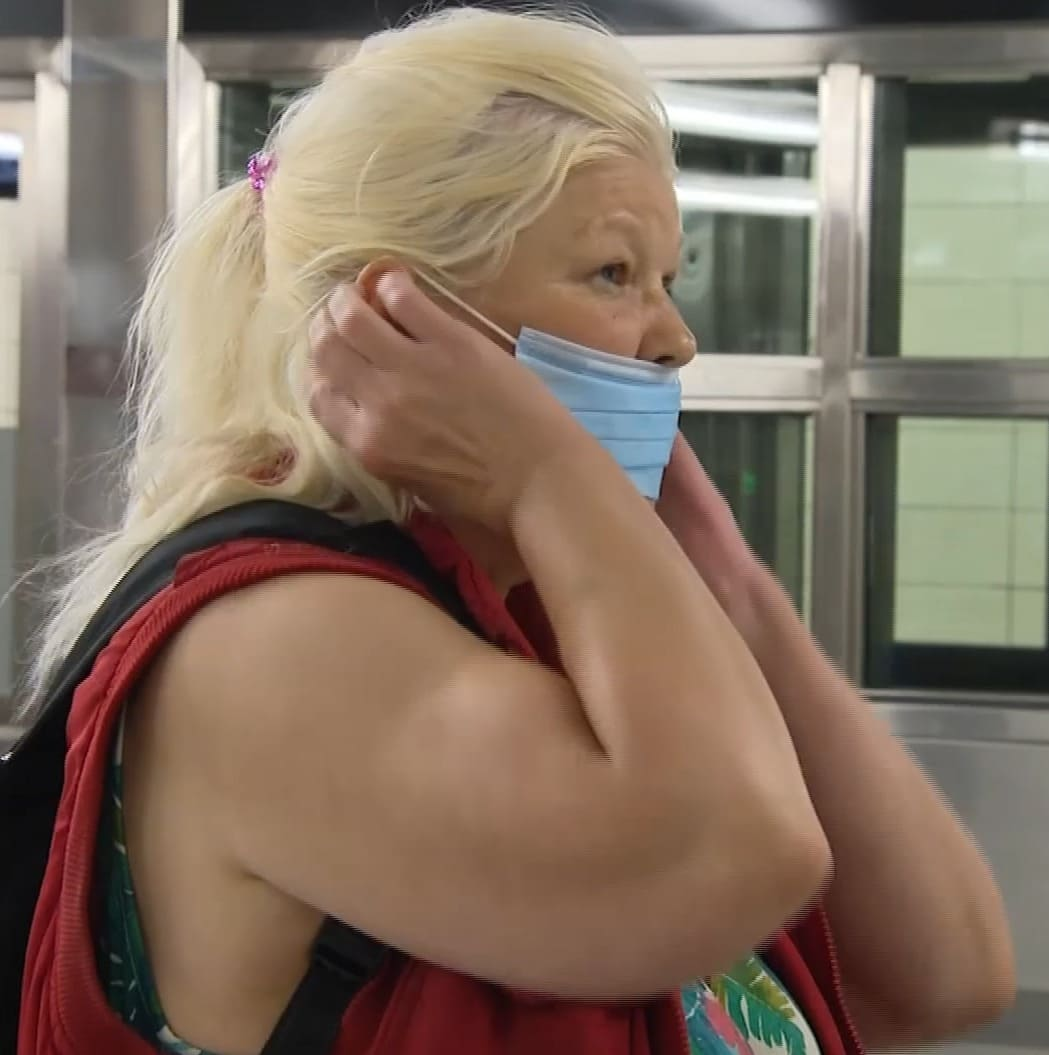with_incorrect_mask: (391, 110, 697, 518)
